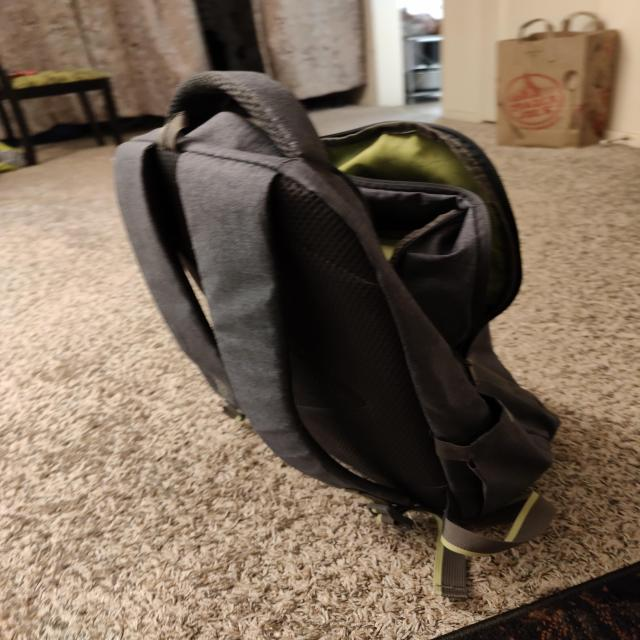bag: (141, 70, 584, 463)
